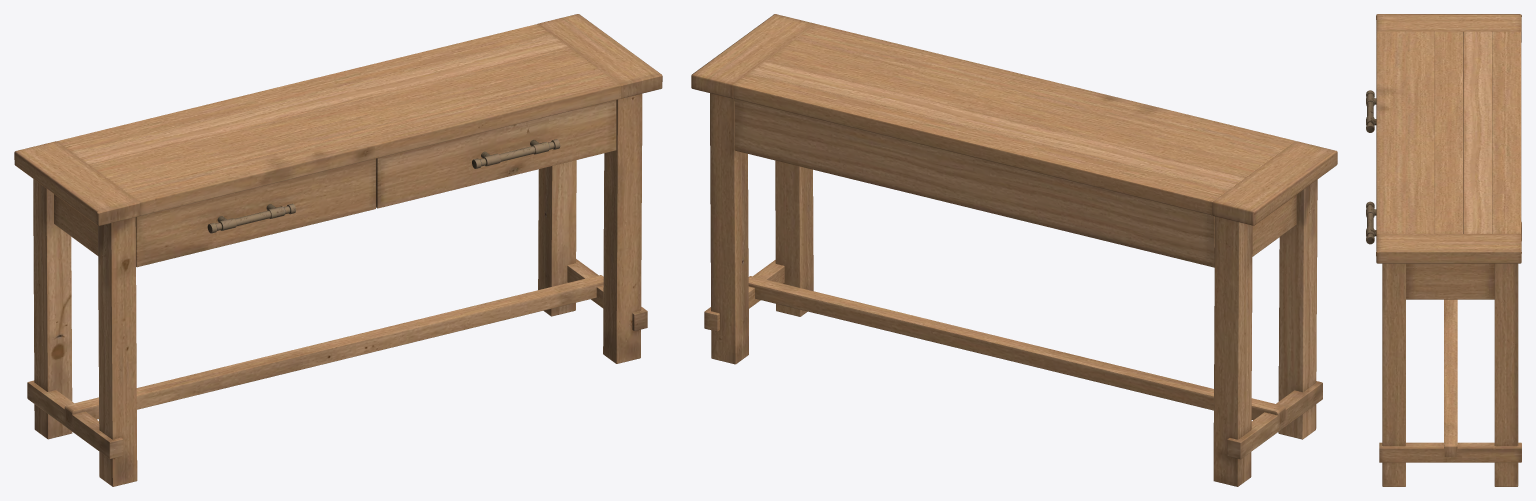
The model's file is abo-B075ZBL75Z.glb.
3 renders of one model, left to right at view 1: azimuth 30°, elevation 25°; view 2: azimuth 150°, elevation 25°; view 3: azimuth 270°, elevation 25°, orthographic. The views are drawn at different scales.
Bounding box in the file's own units: 1.6 × 0.762 × 0.442.
1 material, 1 textured.
